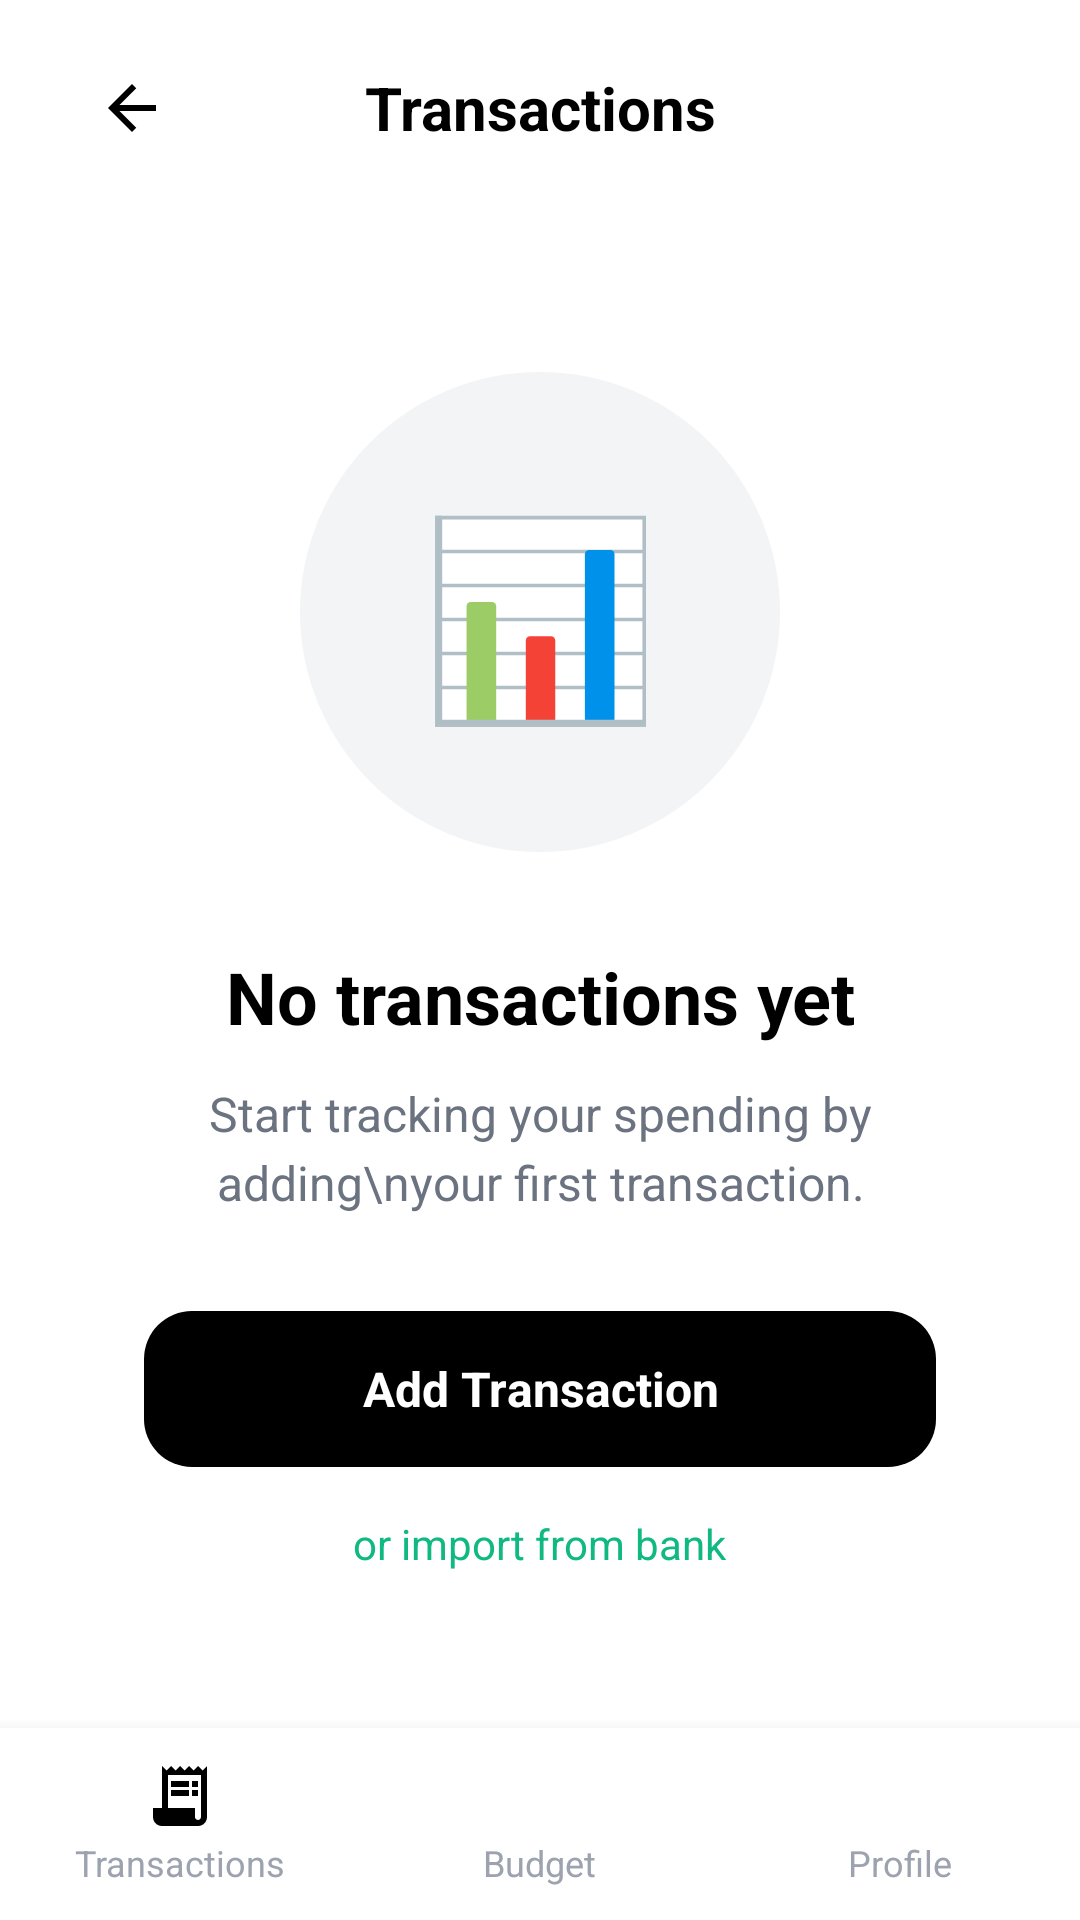

Where icons sit on this 1080x1920 app screen, as (x1, y1, x2, y2):
Back: (108, 84, 156, 132)
